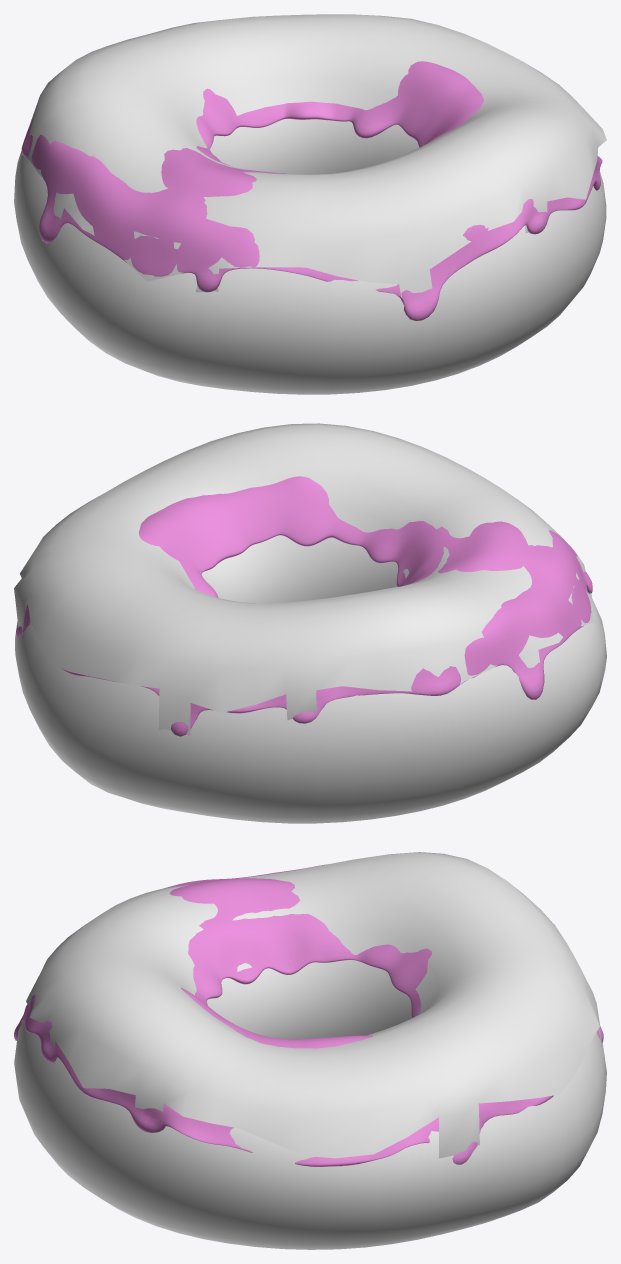
The model's file is donut.glb.
The picture shows the model from 3 angles, top to bottom: view 1: azimuth 30°, elevation 25°; view 2: azimuth 150°, elevation 25°; view 3: azimuth 270°, elevation 25°; orthographic projection. The views are drawn at different scales.
Parts seen in each view (by area): view 1: Icing.001, Donut.001, Icing; view 2: Icing.001, Donut.001, Icing; view 3: Icing.001, Donut.001, Icing.
Part boxes in pixels (x1=…): Icing.001: x1=27, y1=14, x2=606, y2=297; Donut.001: x1=14, y1=119, x2=606, y2=394; Icing: x1=21, y1=61, x2=602, y2=320; Icing.001: x1=14, y1=423, x2=593, y2=735; Donut.001: x1=15, y1=535, x2=606, y2=823; Icing: x1=16, y1=476, x2=592, y2=736; Icing.001: x1=26, y1=852, x2=602, y2=1158; Donut.001: x1=14, y1=960, x2=606, y2=1249; Icing: x1=14, y1=864, x2=603, y2=1166.
Size of what is drawn, in the model's own units: 1.51 by 0.6187 by 1.49.
